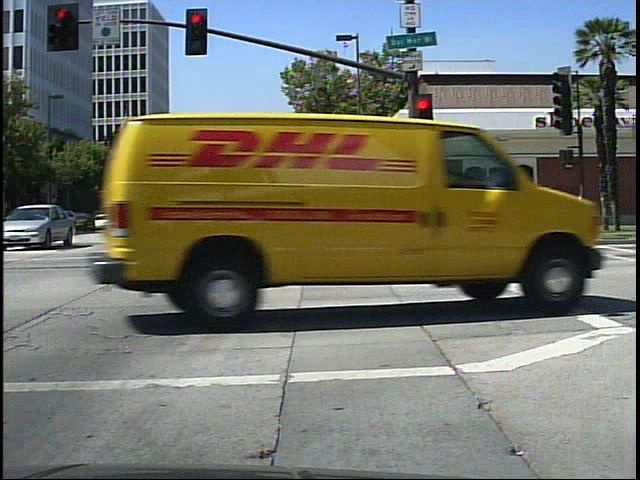person: (281, 204, 294, 222)
